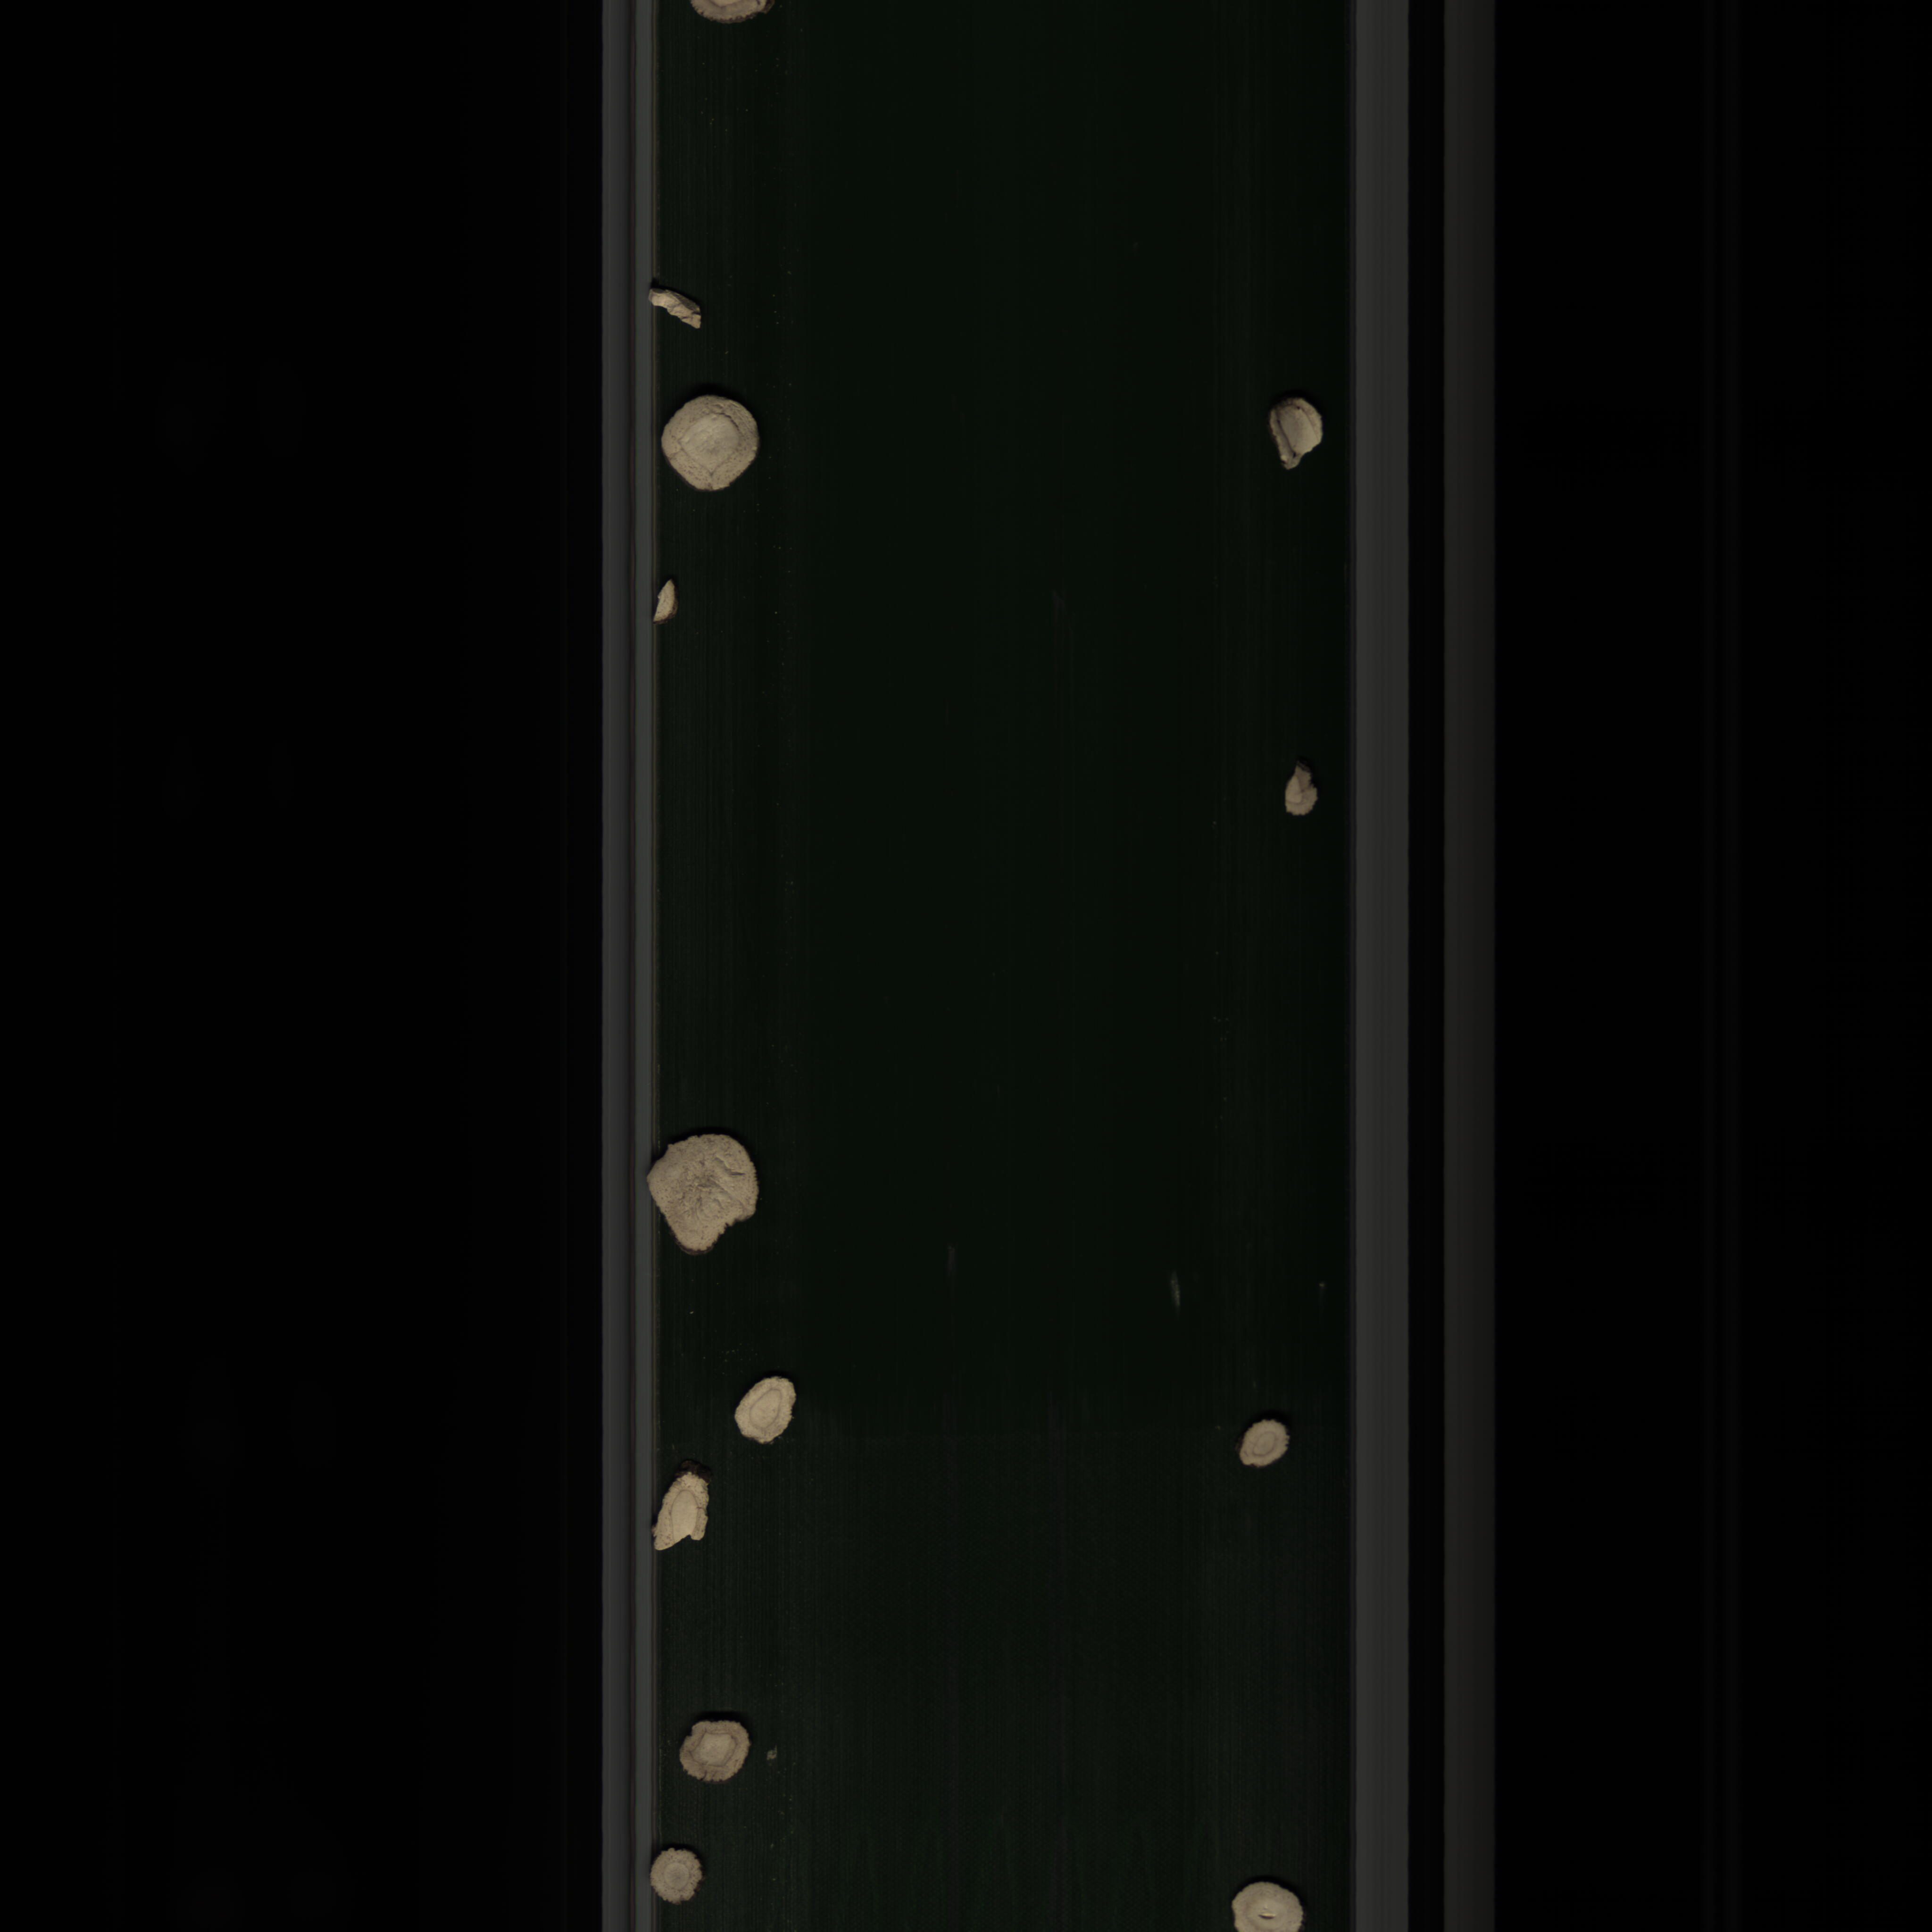bark: (640, 283, 715, 331), (653, 571, 678, 630)
debris: (649, 1463, 718, 1564)
hole: (1224, 1877, 1307, 1930)
moldy: (1254, 387, 1330, 487), (1283, 761, 1325, 821)
